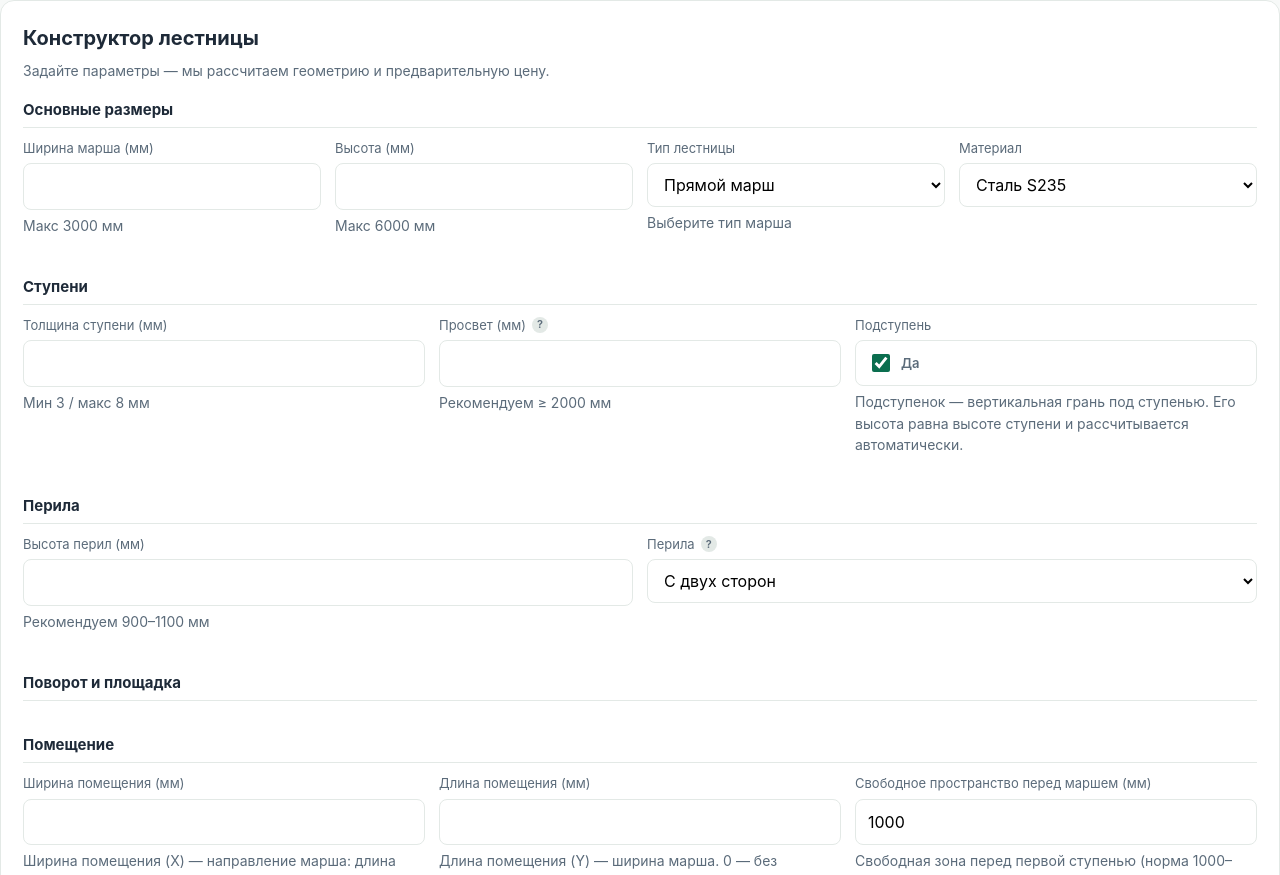
it: Constructor › L-образный тип показывает поля площадки
The image size is (1280, 875).
Select "L-образная (с площадкой)" in the dropdown labelled "Тип лестницы": (796, 185) [647,163,945,207]
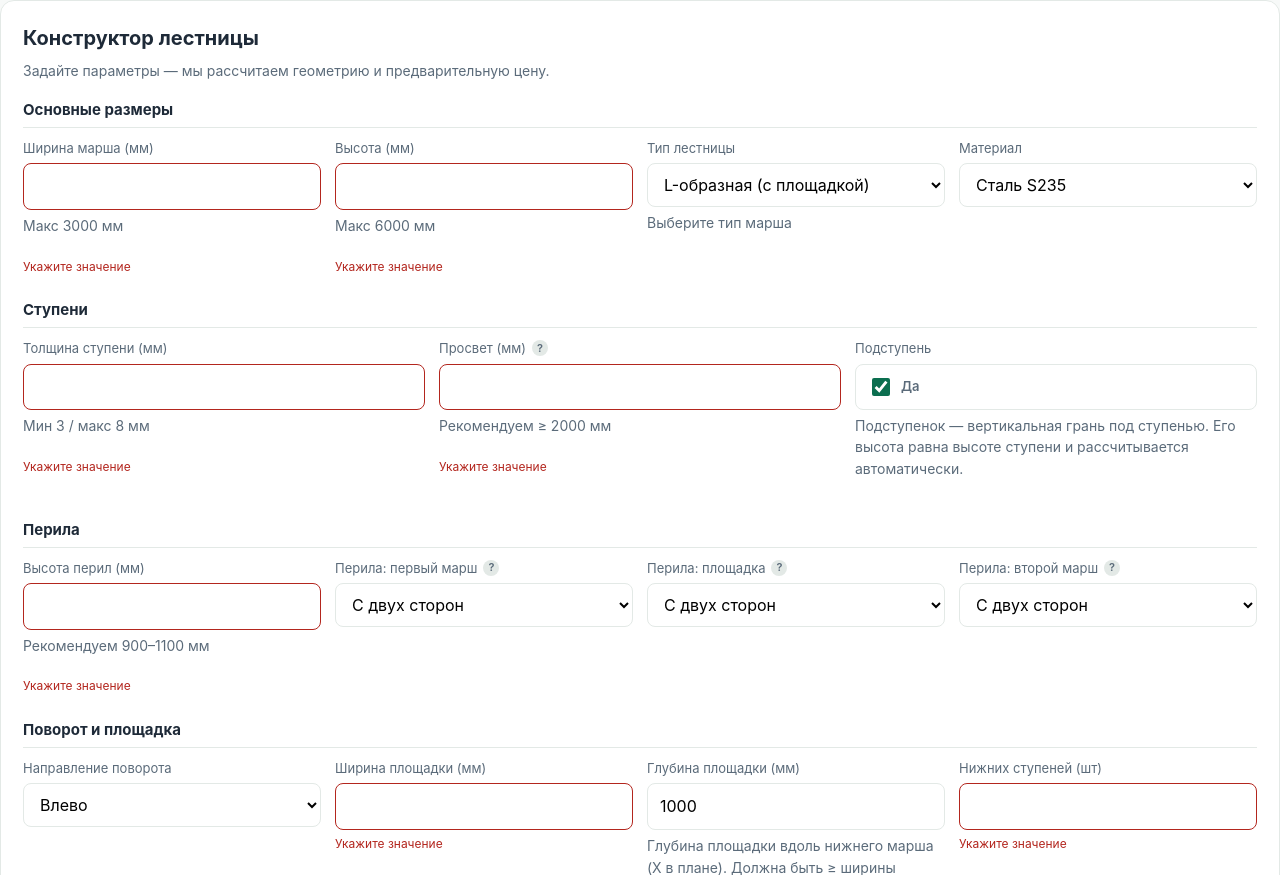
Result: the field labelled "Ширина площадки (мм)" is shown at [335,784,633,830]
Result: the field labelled "Нижних ступеней (шт)" is shown at [959,784,1257,830]
